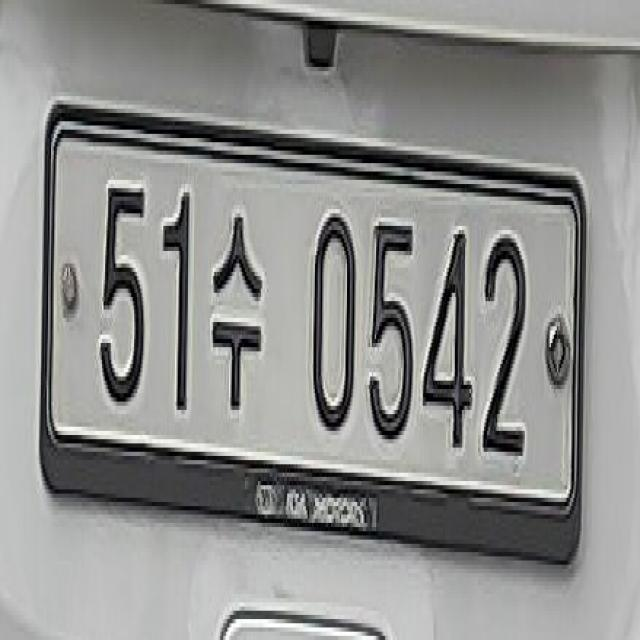0: (304, 193, 358, 444)
1: (156, 182, 198, 428)
2: (477, 227, 530, 469)
4: (420, 217, 477, 469)
5: (98, 164, 148, 420), (363, 210, 415, 449)
license_plate: (28, 87, 600, 592)
su: (207, 194, 268, 438)
